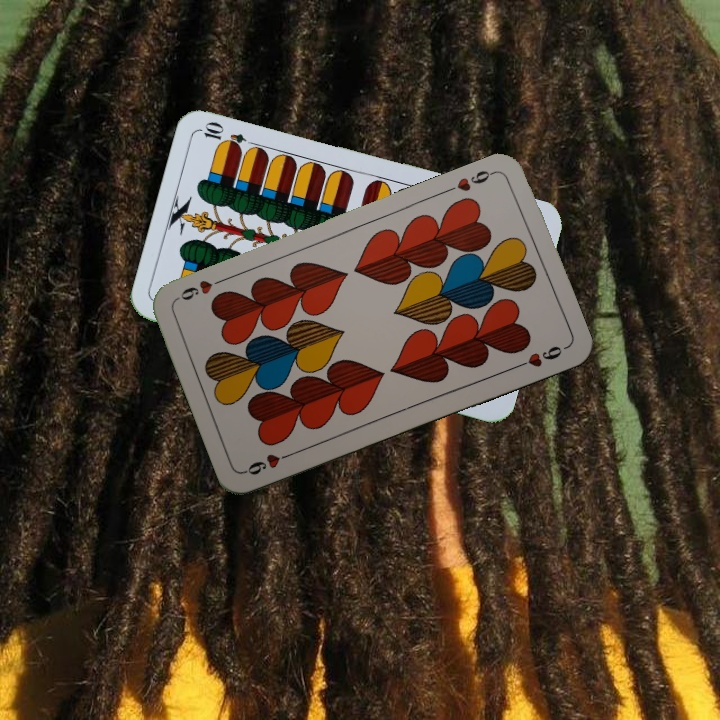H9: (241, 447, 298, 478), (443, 166, 500, 195)
